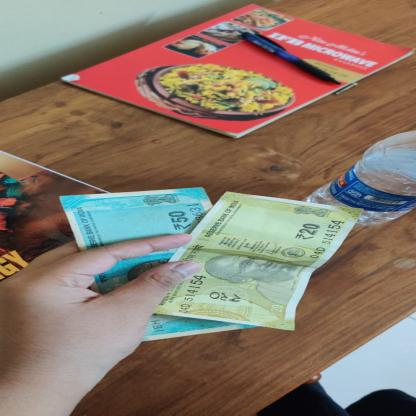New20Front: (154, 190, 365, 332)
New50Front: (58, 186, 263, 342)
